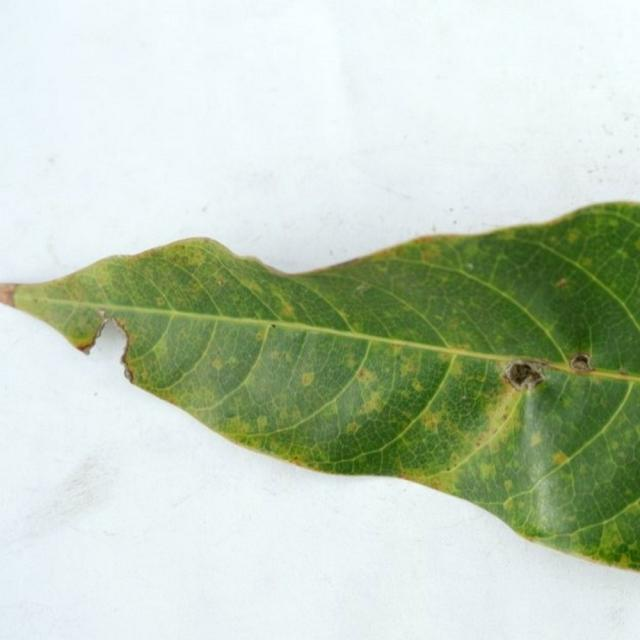Mango: (15, 203, 639, 570)
Powdery_Mildew: (353, 363, 397, 424), (296, 366, 323, 396), (417, 410, 446, 432), (169, 252, 198, 269), (418, 244, 443, 262), (225, 417, 249, 435), (356, 367, 377, 386), (614, 542, 632, 560), (448, 361, 464, 377), (400, 361, 417, 376), (480, 462, 495, 478), (428, 479, 447, 491), (554, 451, 570, 465), (474, 432, 488, 448), (529, 432, 543, 447), (280, 302, 294, 317), (301, 372, 315, 386), (455, 343, 474, 353), (211, 358, 225, 371), (567, 229, 580, 243), (619, 552, 632, 565), (256, 416, 268, 430), (345, 422, 358, 434), (345, 355, 357, 368), (247, 283, 261, 294), (291, 408, 302, 421), (278, 408, 289, 420), (612, 534, 623, 546), (562, 396, 573, 408), (391, 341, 404, 351), (555, 277, 568, 287), (504, 499, 515, 510), (255, 330, 266, 341), (351, 322, 363, 332), (413, 382, 424, 392), (356, 369, 367, 379), (450, 454, 460, 465), (291, 456, 302, 466), (580, 258, 592, 267), (398, 471, 410, 480), (579, 463, 589, 473), (611, 441, 621, 451), (228, 356, 238, 365), (284, 353, 293, 363), (504, 480, 512, 491), (156, 297, 165, 306), (617, 451, 626, 459), (215, 278, 224, 286), (501, 414, 507, 421), (636, 241, 640, 251)
